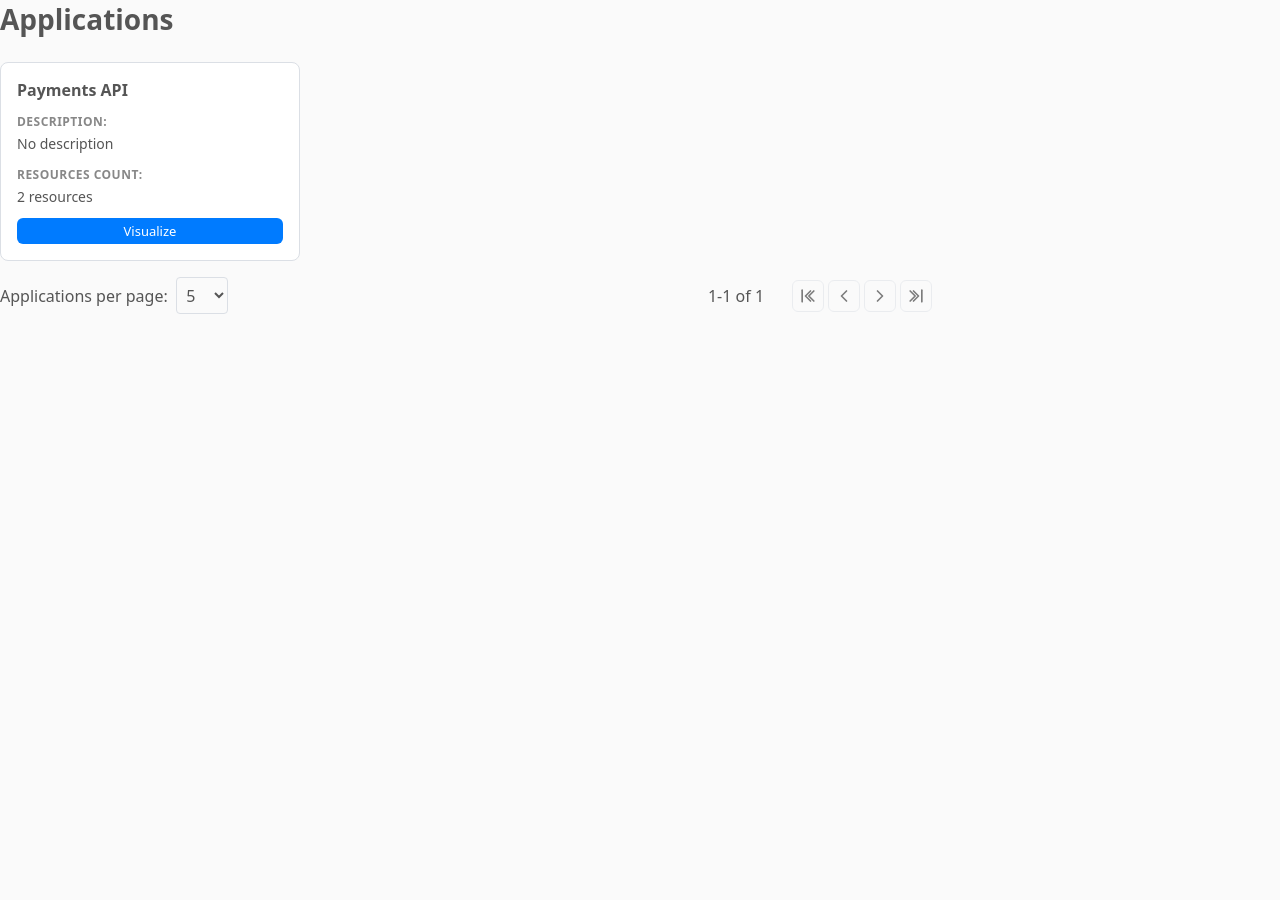
Scenario: ApplicationsPage › should open a graph modal when Visualize is clicked
Click the button "Visualize": (150, 231) [17,218,283,244]
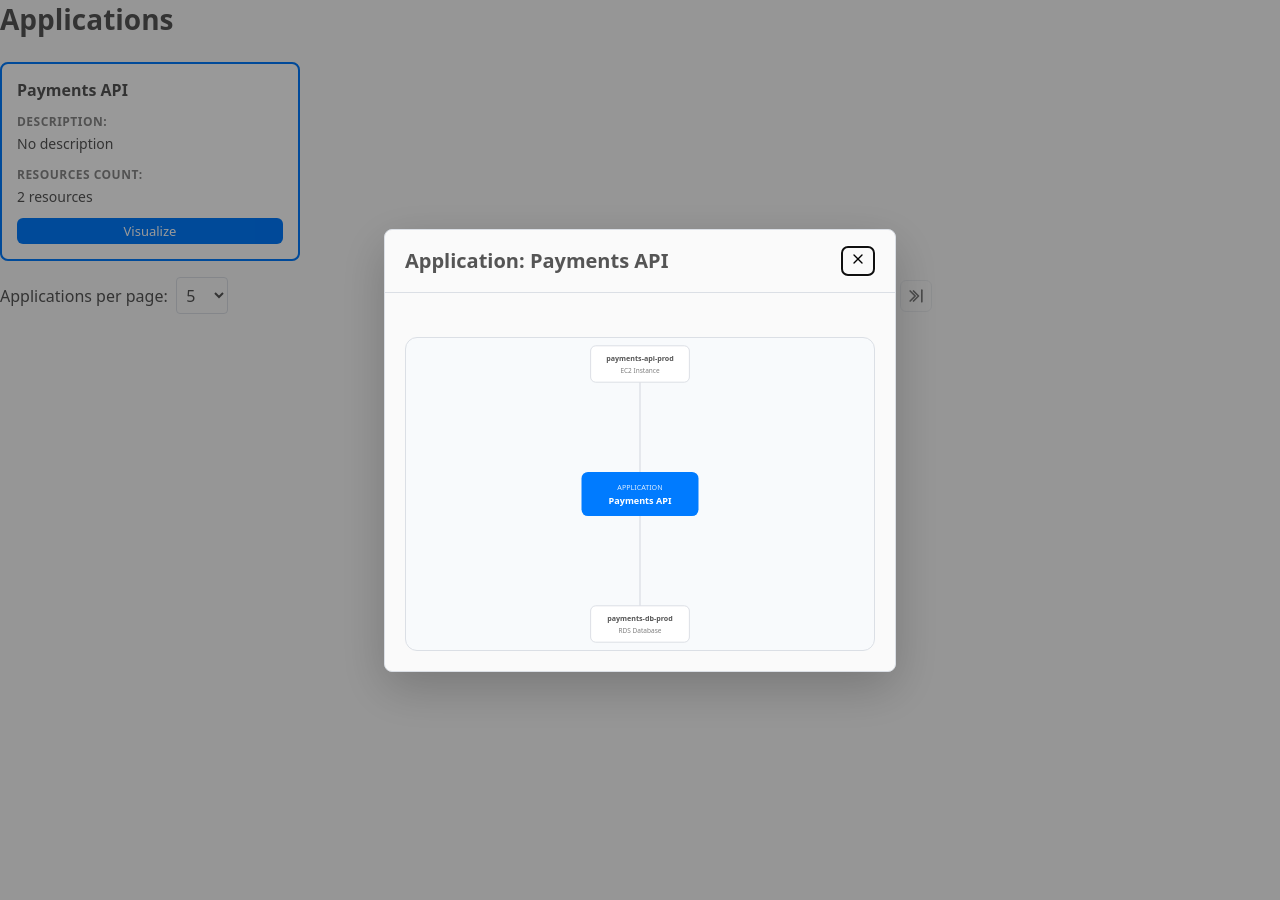
Expected: the heading "Application: Payments API" is shown, [405,247,668,274]
Expected: the picture named "Payments API connected to 2 resources" is shown, [405,336,875,650]
